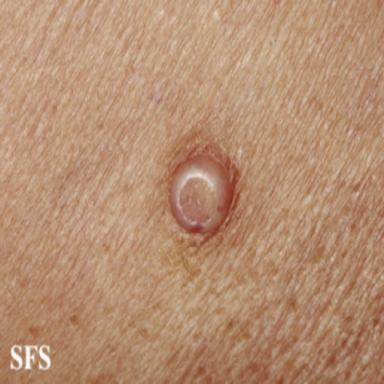Molluscum-Contagiosum: (169, 155, 233, 233)
